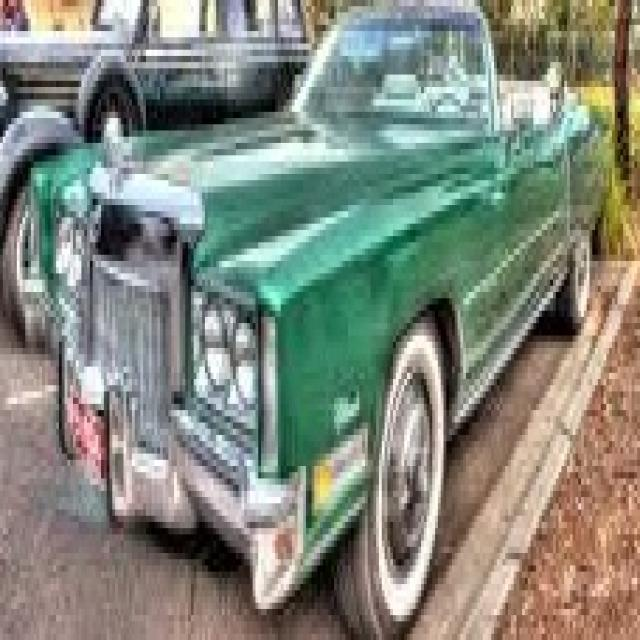green: (38, 5, 602, 640)
